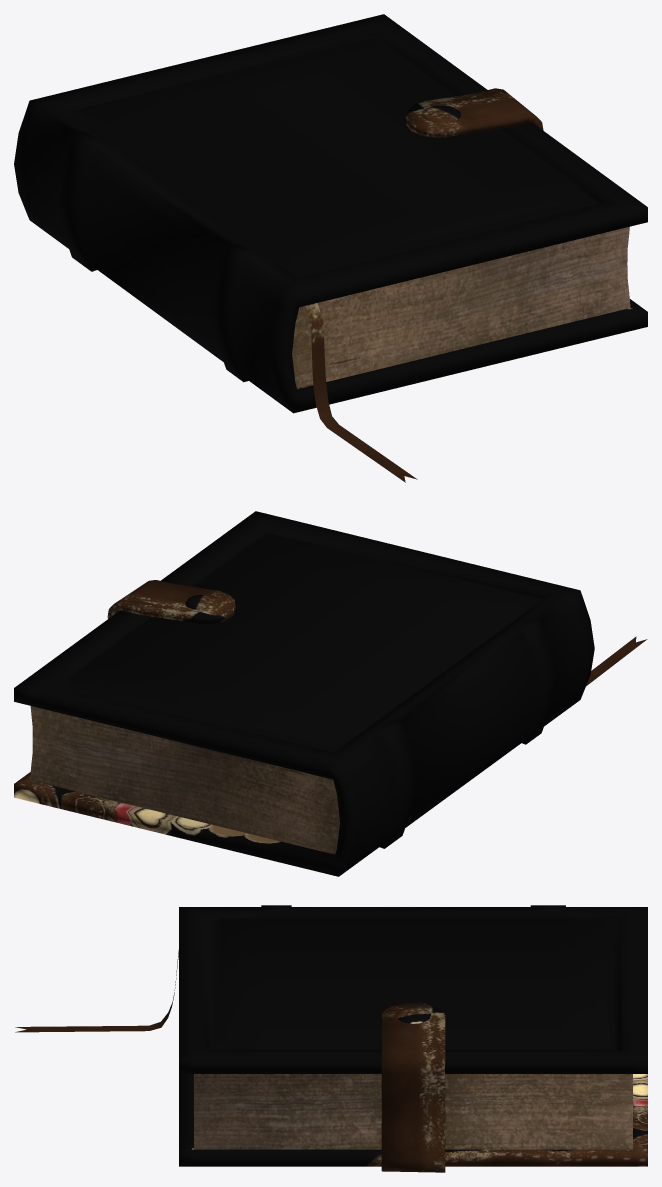
3 views of the same model, one above another, from view 1: azimuth 30°, elevation 25°; view 2: azimuth 150°, elevation 25°; view 3: azimuth 270°, elevation 25° (orthographic). The views are drawn at different scales.
Visible parts, largest first — view 1: deckel, ruecken; view 2: deckel, ruecken; view 3: deckel, ruecken.
Part boxes in pixels (bbox=[...]): deckel: bbox=[14, 14, 647, 353]; ruecken: bbox=[14, 161, 647, 482]; deckel: bbox=[14, 511, 594, 822]; ruecken: bbox=[14, 636, 647, 876]; deckel: bbox=[177, 905, 647, 1114]; ruecken: bbox=[15, 966, 647, 1172].
Size of the model in its own units: 0.1874 by 0.068 by 0.3.
1 material, 1 textured.
